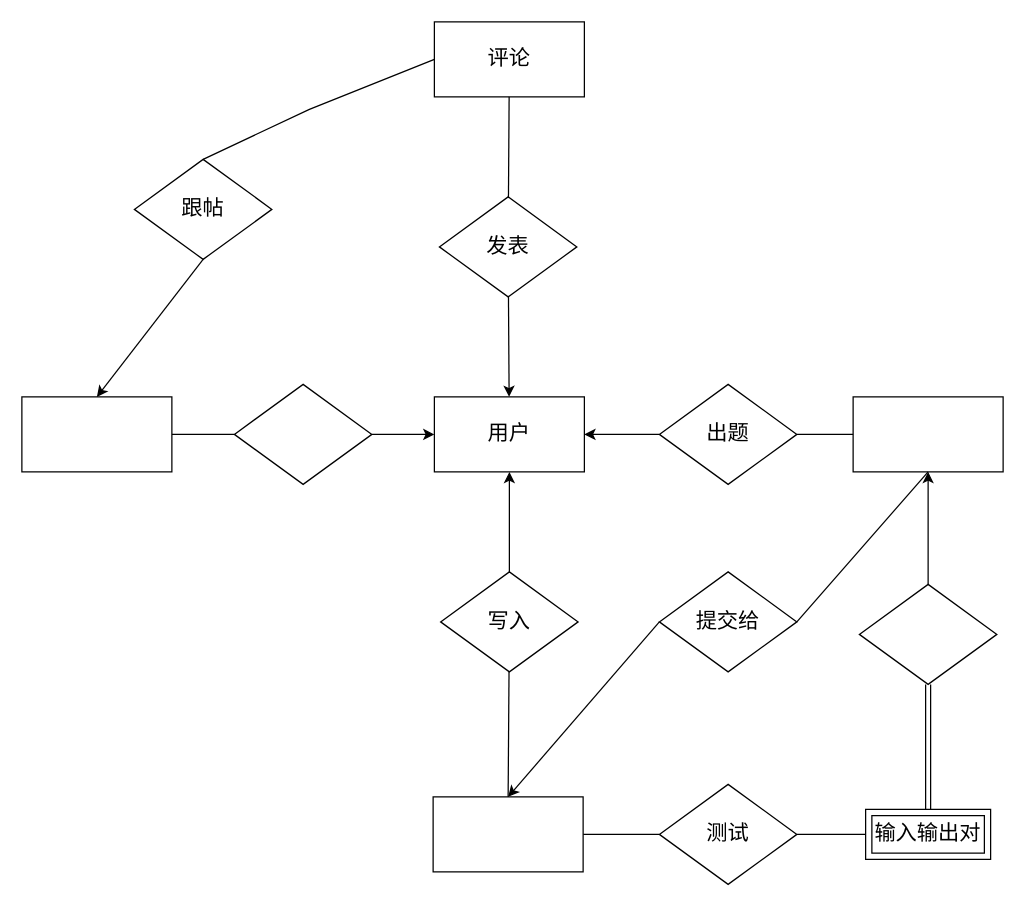
This 1025x906 diagram has some shape labels left out. Here are the shapes that lost their labels. From the top down, the centre of each, then its label:
At (x=96, y=434): "帖子".
At (x=302, y=433): "发帖".
At (x=927, y=434): "题目".
At (x=927, y=633): "检查".
At (x=507, y=834): "提交".
